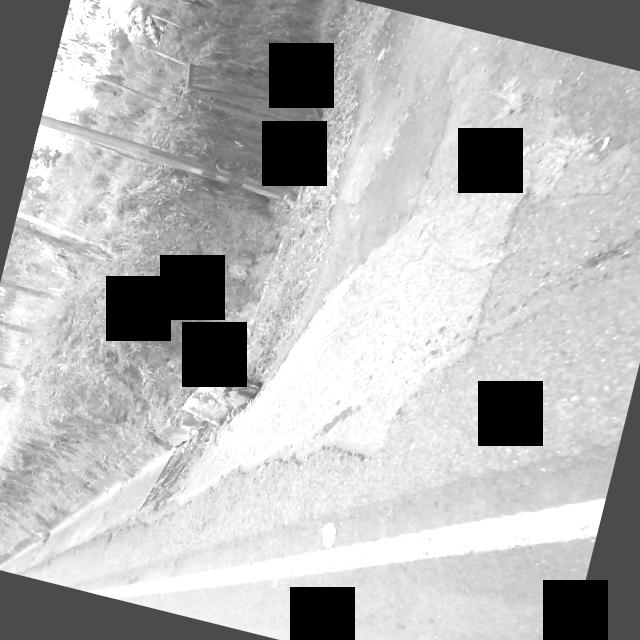DITCH: (0, 0, 640, 640), (148, 0, 640, 640)
